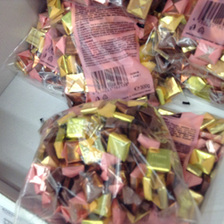candy: (26, 99, 185, 220), (26, 2, 173, 97)
